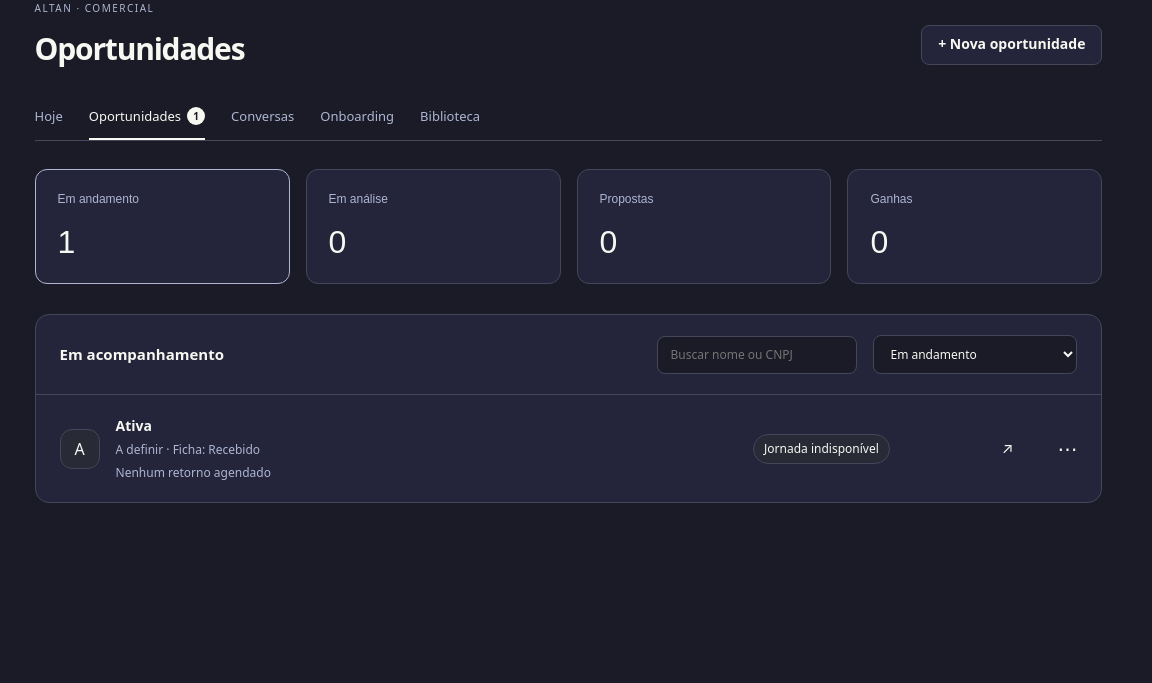
fila padrão corresponde ao selo e permite consultar desistências sem notificação ativa
Check: the text named "1 oportunidades em andamento" is shown, box [187,107,205,125]
Check: the link "Ativa" is shown, box [36,395,1037,502]
Select "Perdido" in the dropdown named "Etapa comercial" at (976, 354), box [874,335,1078,374]
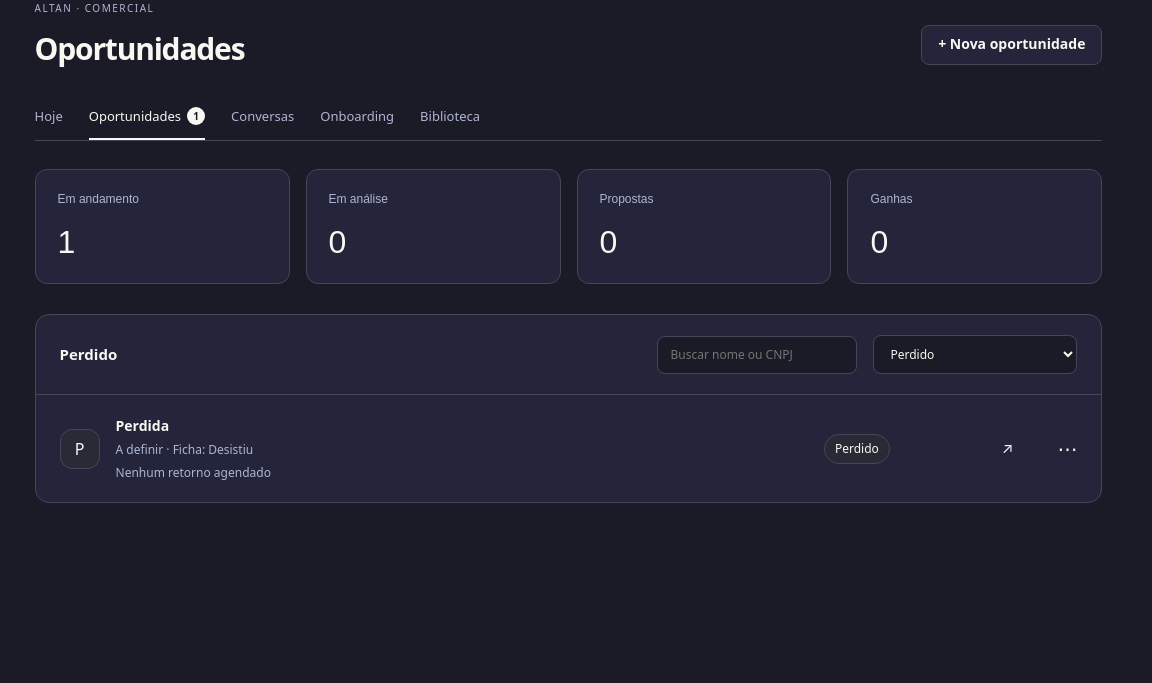
Check: the text named "1 oportunidades em andamento" is shown, box [187,107,205,125]
Check: the link "Ativa" is gone
Select "Todas, incluindo encerradas" in the dropdown named "Etapa comercial" at (976, 354), box [874,335,1078,374]
(page scrolled)
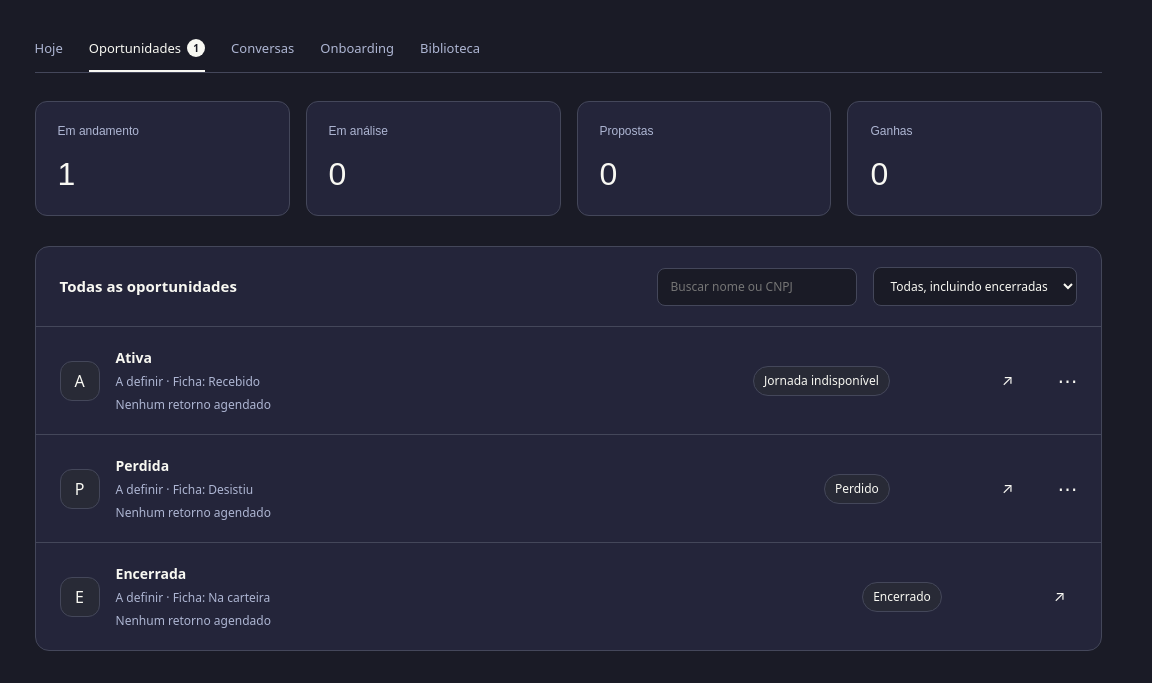
Check: the link "Encerrada" is shown, box [36,543,1089,650]
